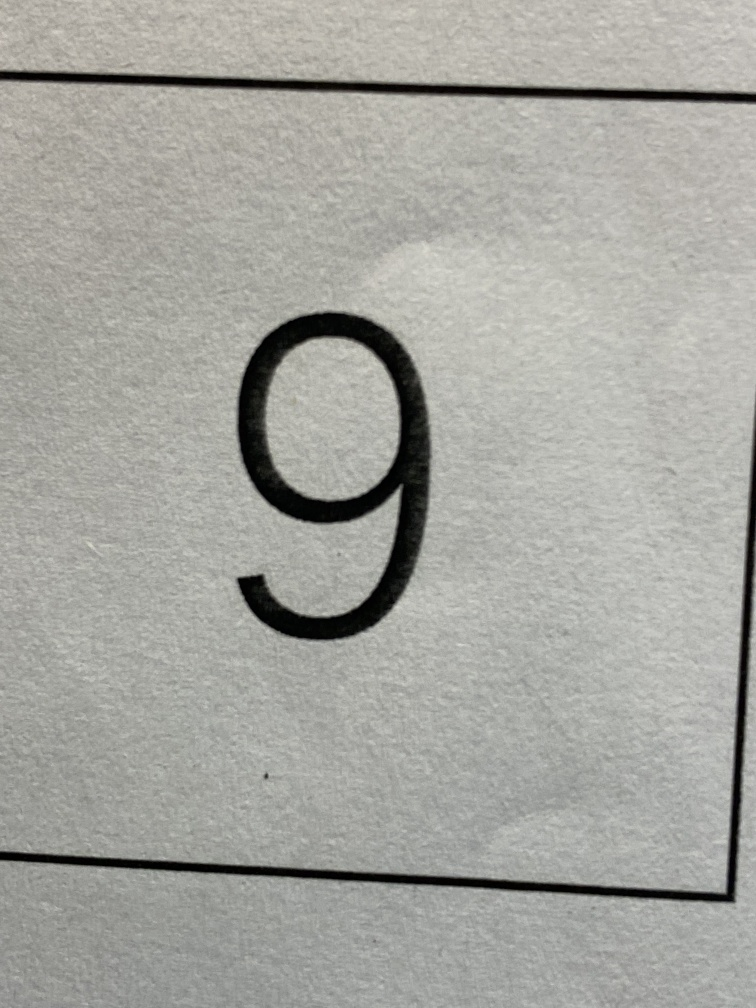nine: (188, 256, 477, 690)
